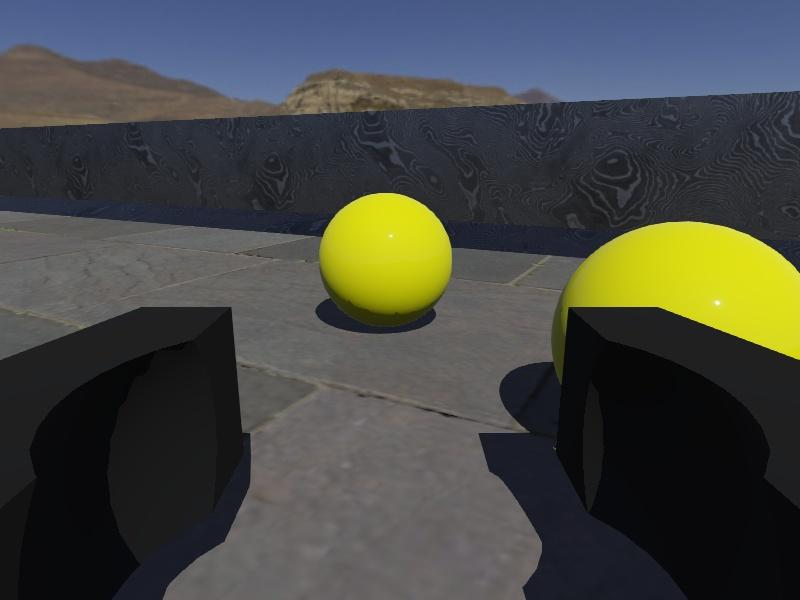yellow ball: (318, 191, 454, 329)
